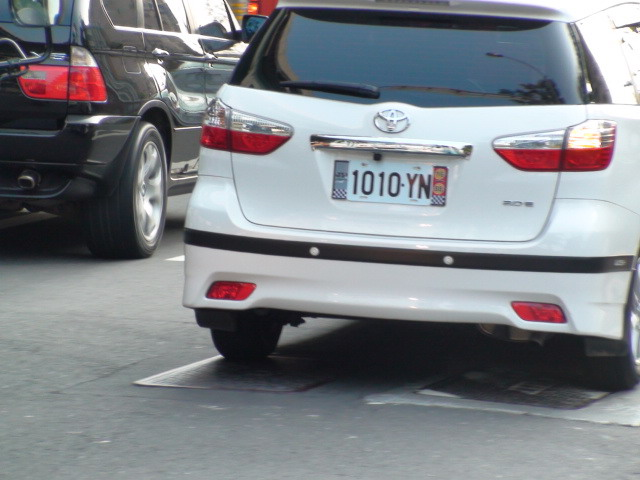plate: (348, 155, 435, 209)
